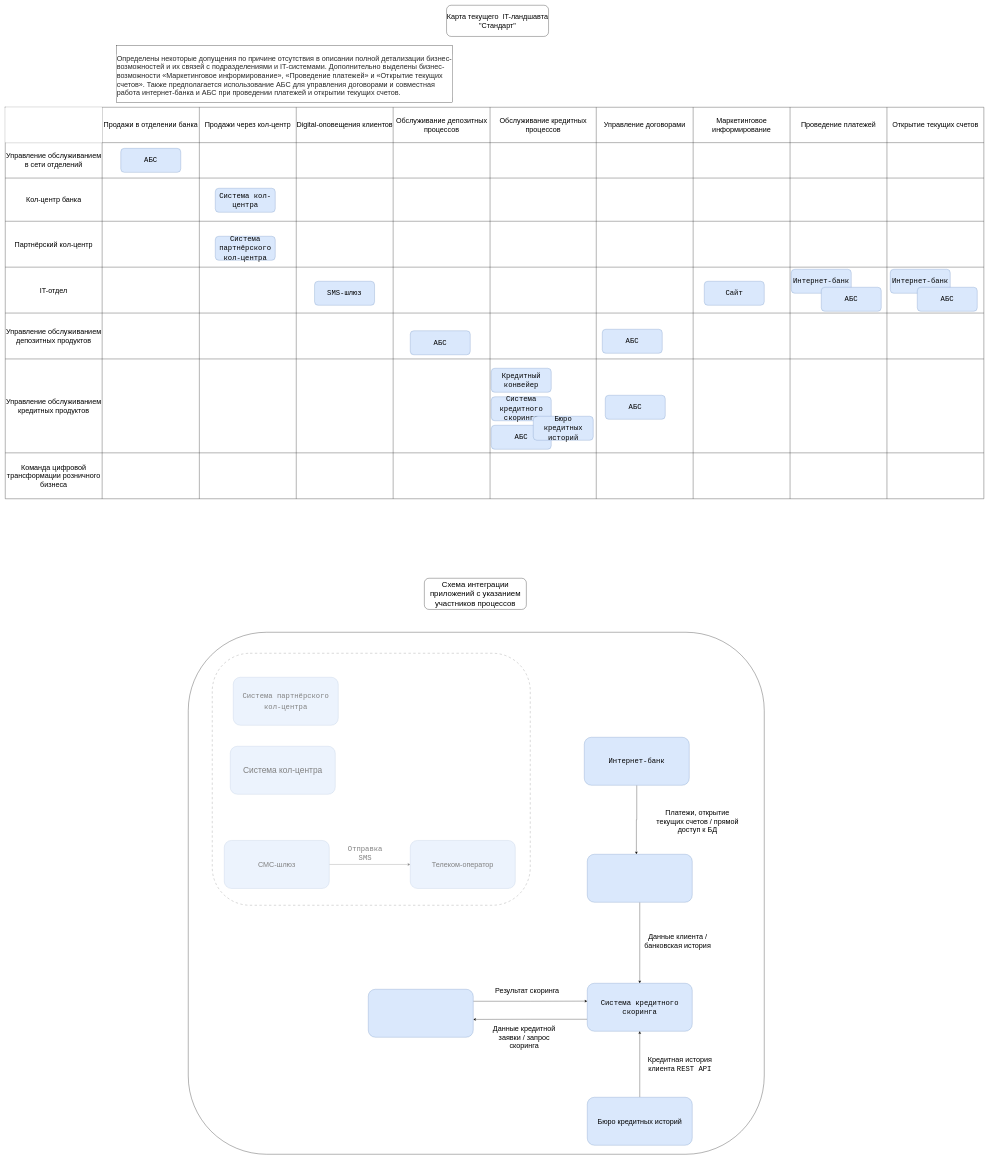
Some shapes in this 989 by 1160 pixel diagram are drawn without their labels. The shapes that lost their labels are listed below. From the top down, each one's box as (x1, y1, x2, y2) in pixels, then its label:
(212, 653, 530, 905): Интеграции не описаны
(587, 854, 692, 902): Автоматизированная банковская система (АБС)
(368, 989, 473, 1037): Кредитный конвейр
